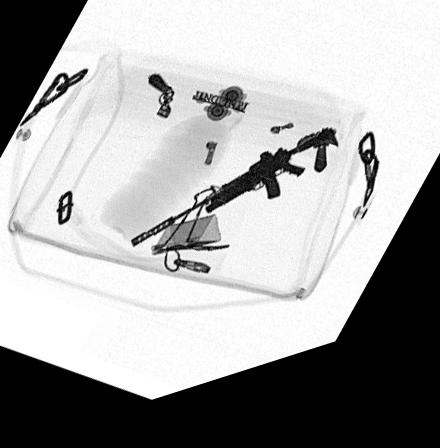Gun: (125, 147, 339, 261)
